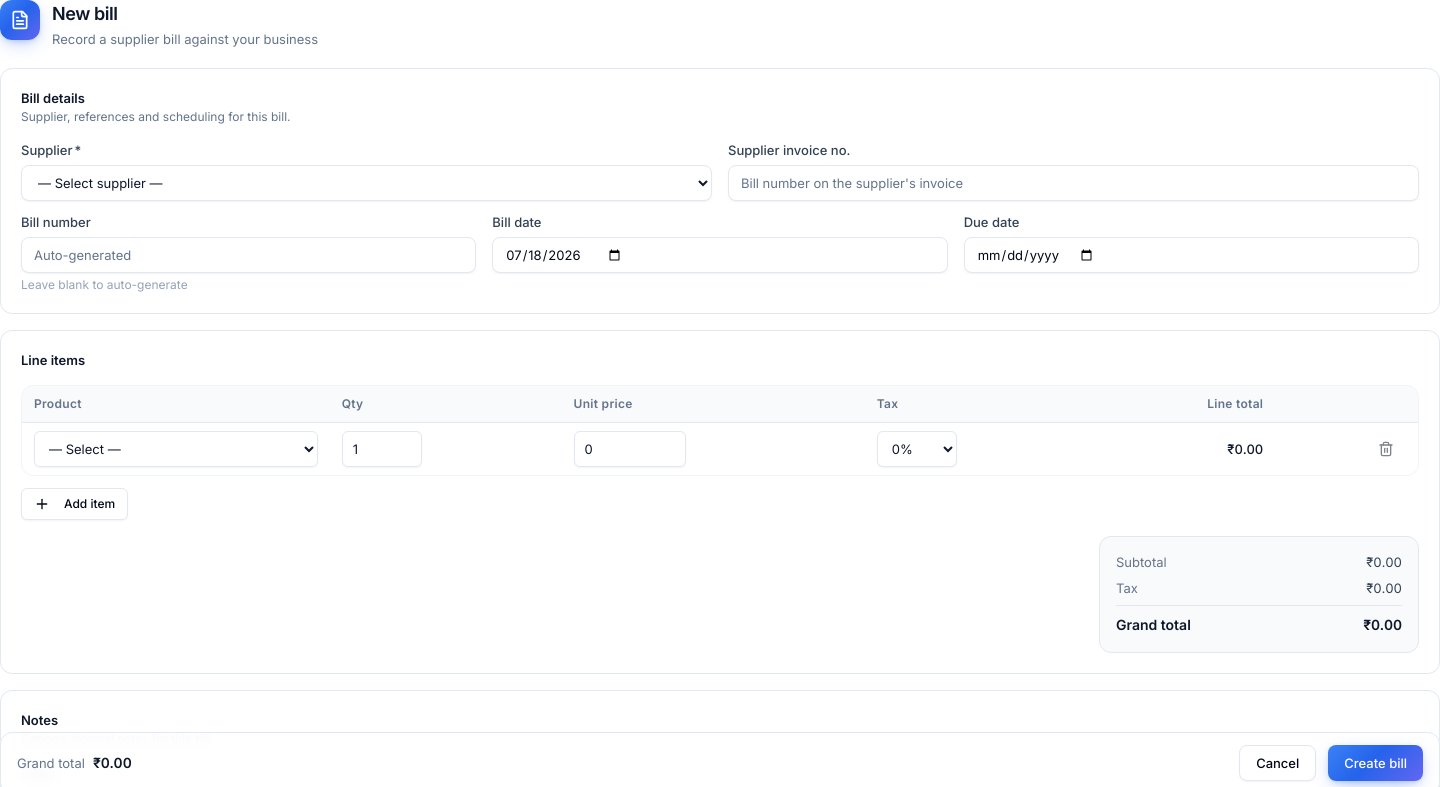
Test: BillForm › blocks submission when no supplier is selected
Select "Widget" in the dropdown named "Product for line 1" at x=176, y=448, box [34,430,318,466]
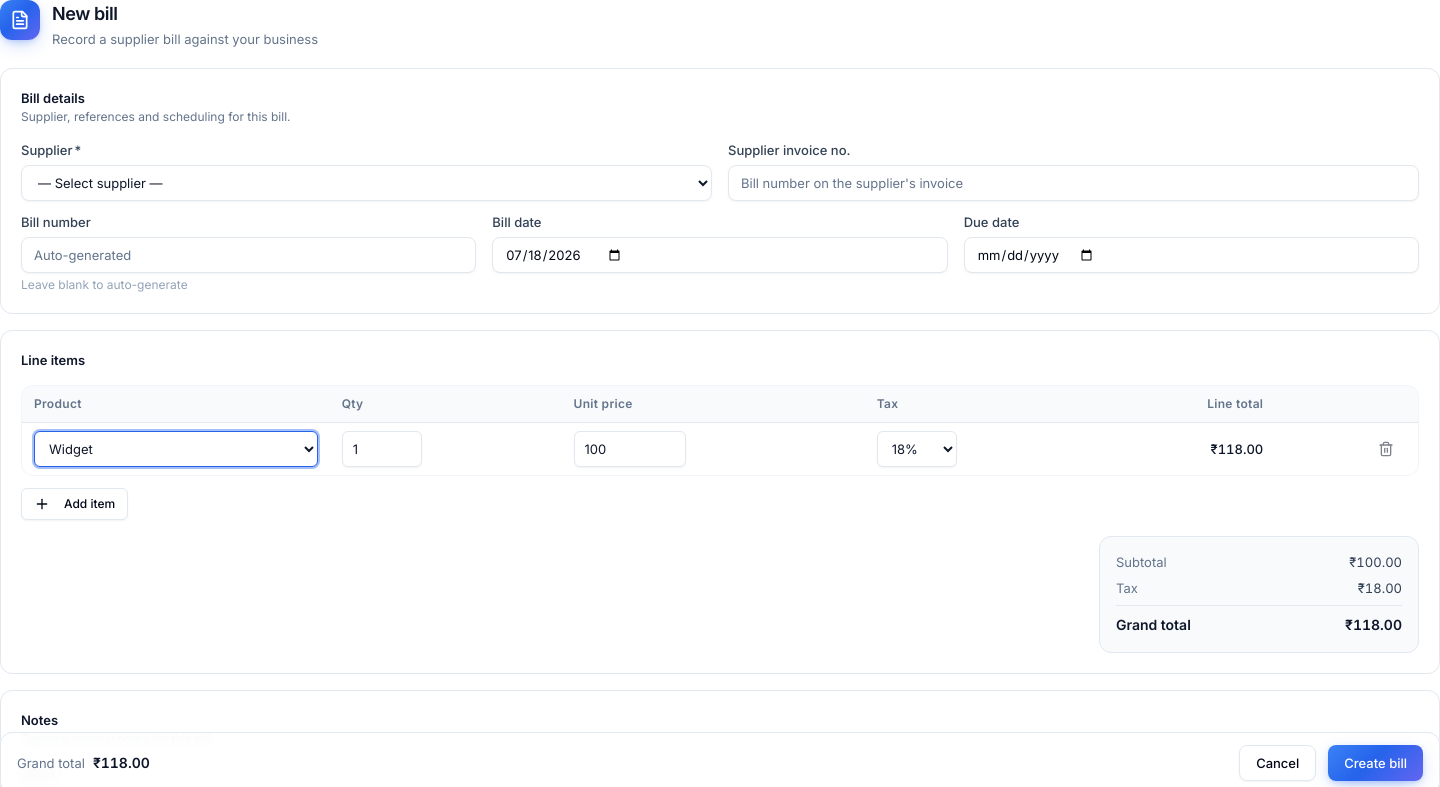
Click the button "Create bill" at x=1376, y=763, box [1328,745,1423,781]
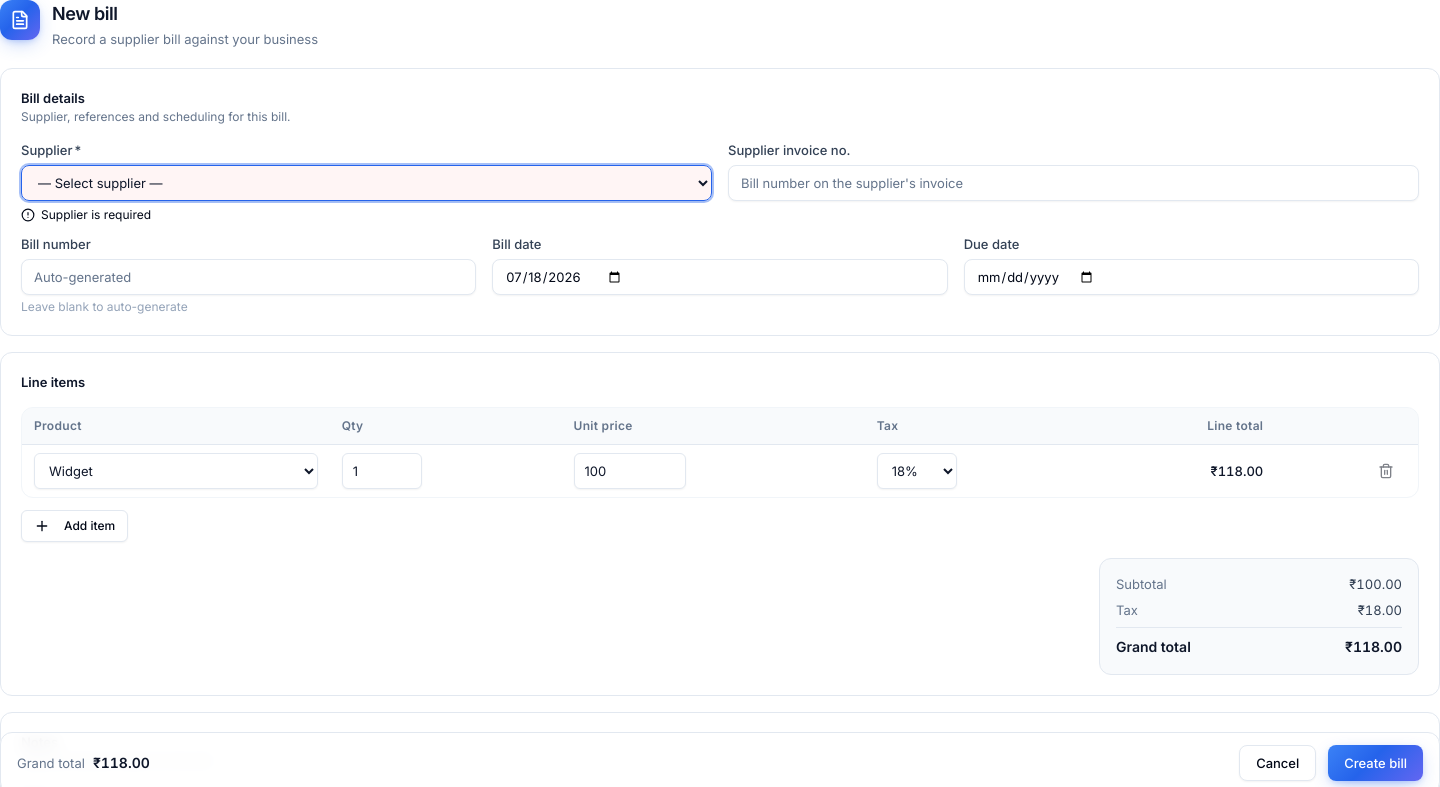
Expected: the text "Supplier is required" is shown, [21,207,151,222]
